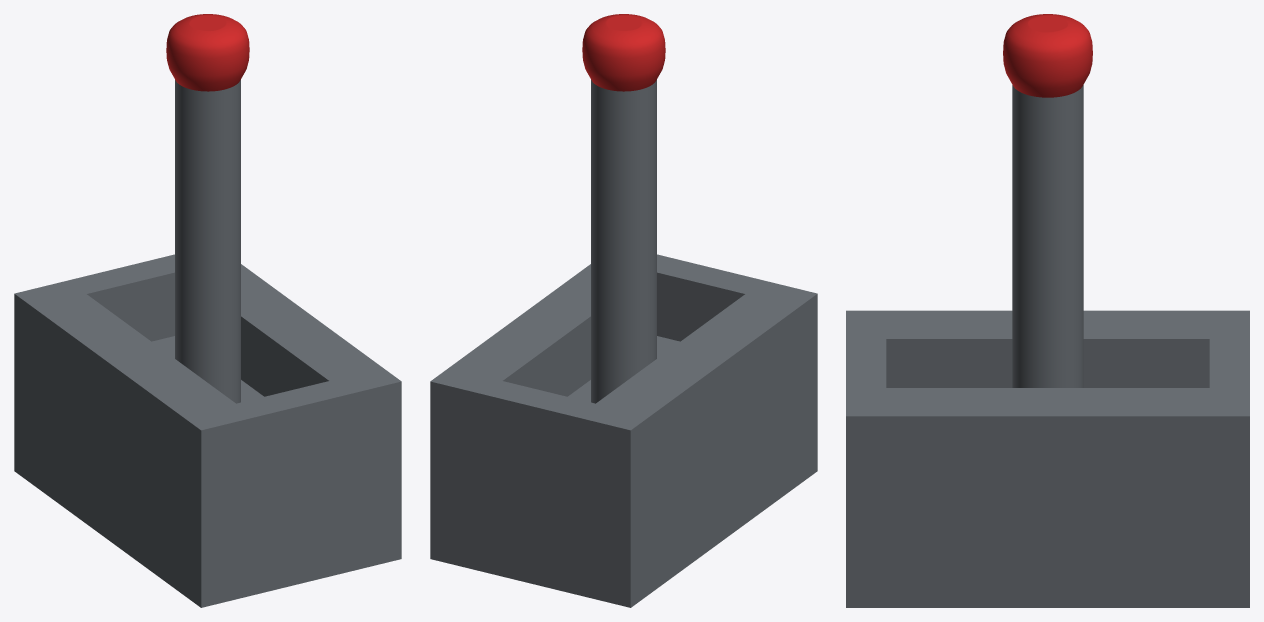
The model's file is Lever.fbx.
The picture shows the model from 3 angles, left to right: view 1: azimuth 30°, elevation 25°; view 2: azimuth 150°, elevation 25°; view 3: azimuth 270°, elevation 25°; orthographic projection. The views are drawn at different scales.
Parts seen in each view (by area): view 1: LeverBase, Lever; view 2: LeverBase, Lever; view 3: LeverBase, Lever.
Boxes of the visible parts, x1,y1,x2,y2 form: LeverBase: [14, 254, 401, 607]; Lever: [166, 14, 249, 403]; LeverBase: [430, 254, 817, 607]; Lever: [582, 14, 665, 403]; LeverBase: [846, 310, 1249, 607]; Lever: [1003, 14, 1092, 387].
Size of the model in its own units: 124 by 290 by 200.
